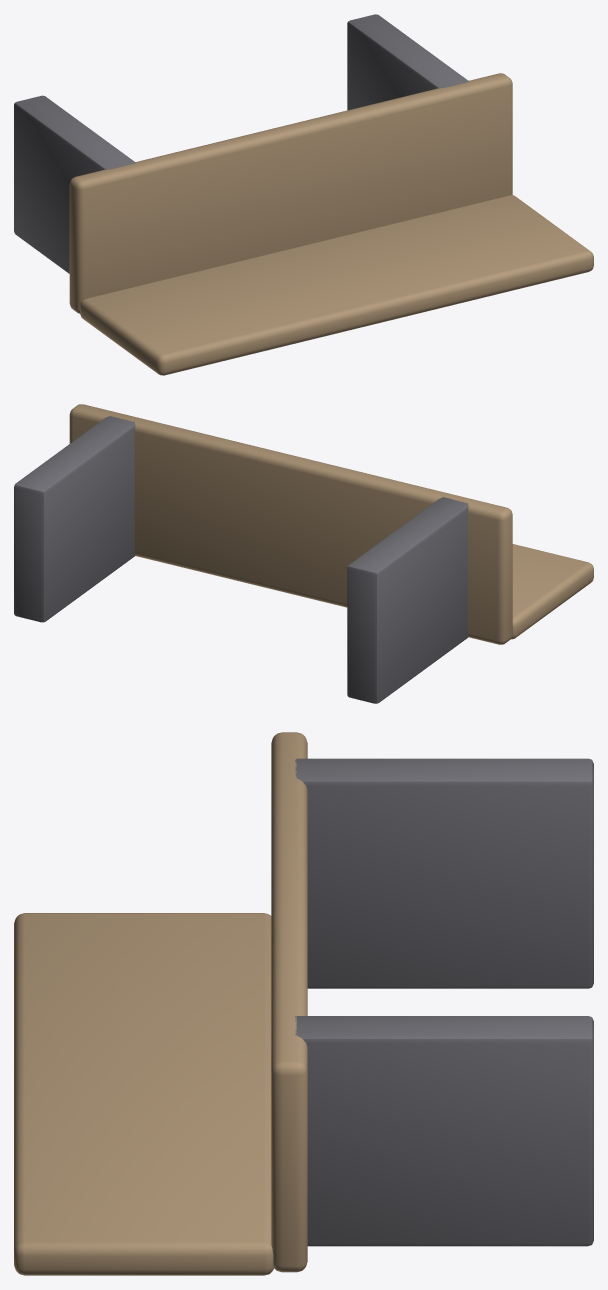
The model's file is park_bench.glb.
3 renders of one model, top to bottom at view 1: azimuth 30°, elevation 25°; view 2: azimuth 150°, elevation 25°; view 3: azimuth 270°, elevation 25°, orthographic. The views are drawn at different scales.
Parts seen in each view (by area): view 1: Seat, Back, Leg_-0.42, Leg_0.42; view 2: Seat, Leg_-0.42, Leg_0.42, Back; view 3: Back, Leg_-0.42, Leg_0.42, Seat.
Part boxes in pixels (box(x1,y1,x2,y2)): Seat: box(69, 73, 512, 313); Back: box(80, 195, 593, 375); Leg_-0.42: box(14, 95, 134, 273); Leg_0.42: box(347, 14, 468, 110); Seat: box(69, 404, 512, 644); Leg_-0.42: box(347, 497, 468, 703); Leg_0.42: box(14, 416, 135, 622); Back: box(511, 544, 593, 639); Back: box(14, 913, 273, 1275); Leg_-0.42: box(295, 758, 593, 988); Leg_0.42: box(295, 1016, 593, 1246); Seat: box(271, 732, 307, 1272).
Bounding box in the file's own units: 1.1 × 0.325 × 0.8.
